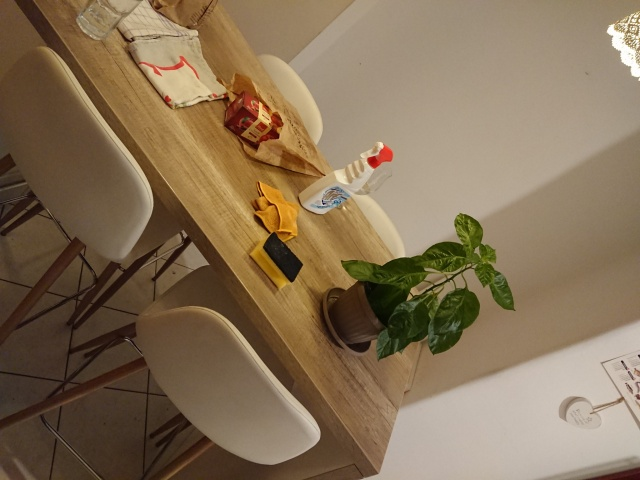Franck Apple Cinnamon Tea 60g: (221, 88, 294, 151)
